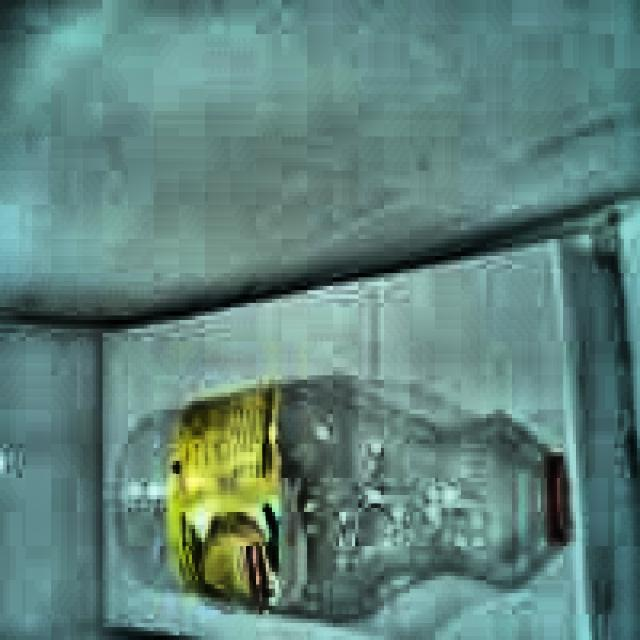Bottles: (100, 358, 618, 628)
